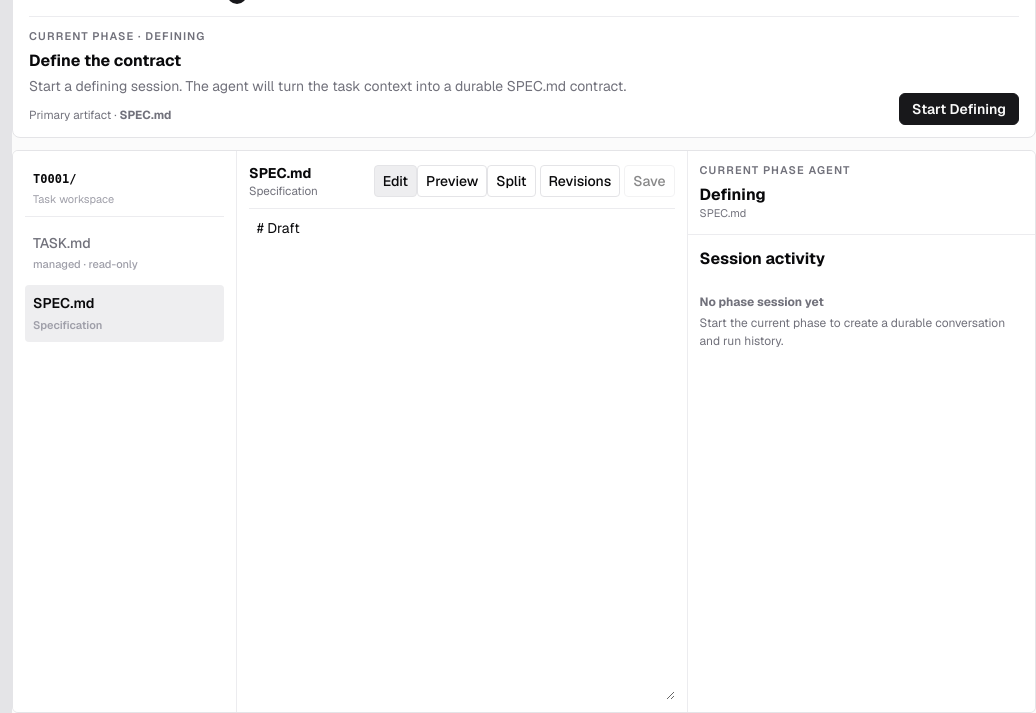
Test: failed reload preserves the only copy of a dirty draft
(page scrolled)
Replace the text in the text box named "Markdown document" with "keep me" at [462, 455], box 249,209 -> 674,700
(page scrolled)
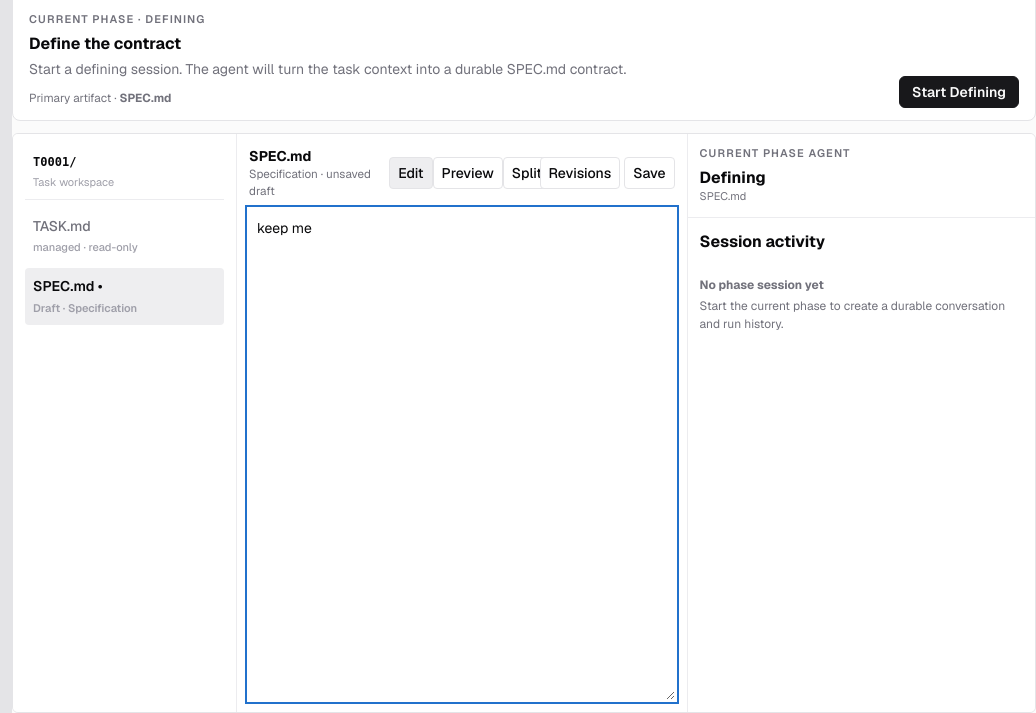
Click the button "Save".
click(649, 173)  # box 624,157 -> 674,189
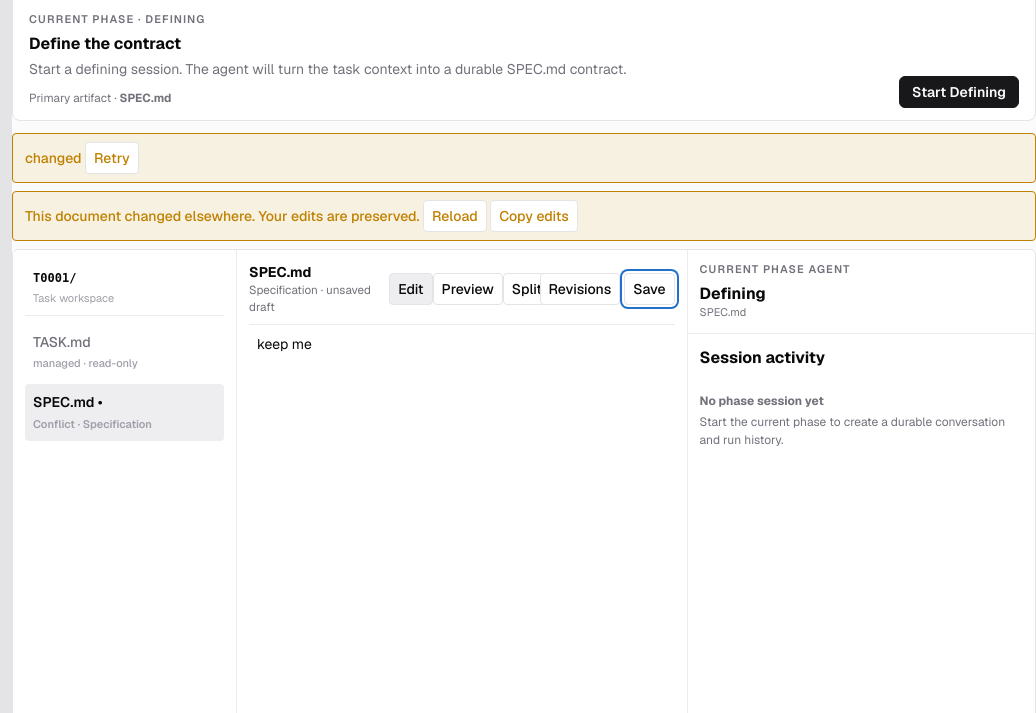
Click the button "Reload".
click(455, 216)  # box 423,200 -> 487,232
(page scrolled)
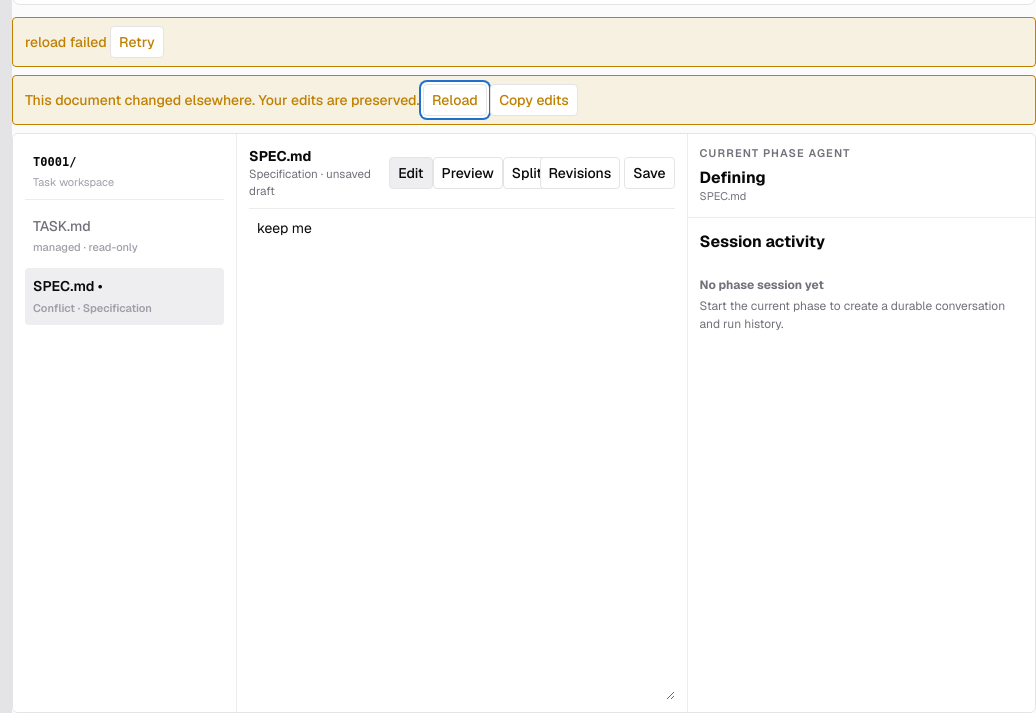
Now the text "reload failed Retry" is shown, box 12,17 -> 1035,67
